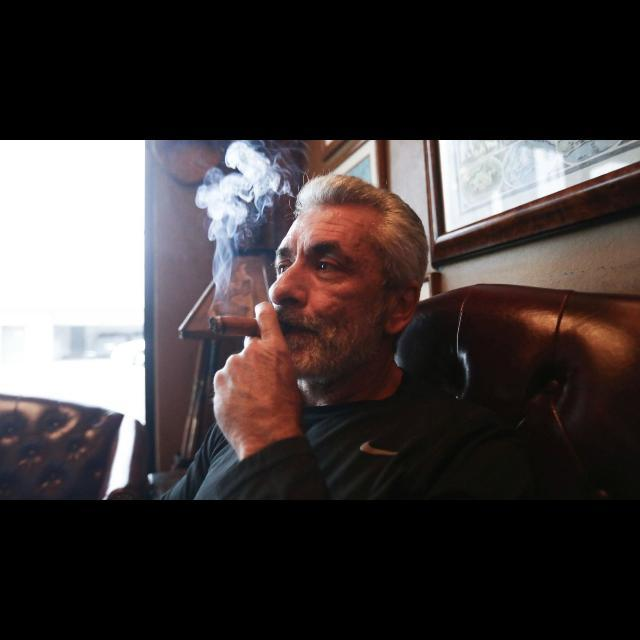rokok: (208, 308, 266, 338)
